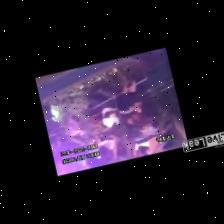person: (86, 82, 119, 132), (113, 67, 140, 124)
